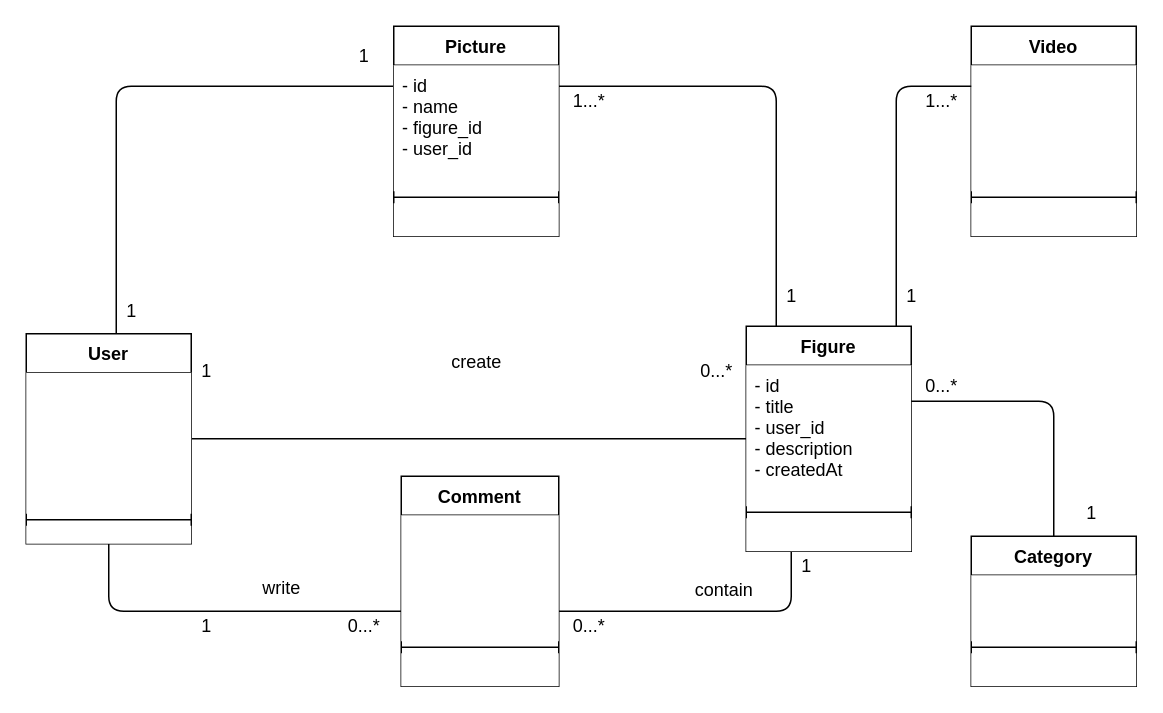
This 1163x713 diagram has some shape labels left out. The centre of each missing label's shape, as x and y in pixels:
- id - content - createdAt - user_id - figure_id: [479,577]
- id - figure_id - url: [1053,127]
- id - name: [1053,607]
- id - pseudo - password - createdAt - email - roles: [108,442]
